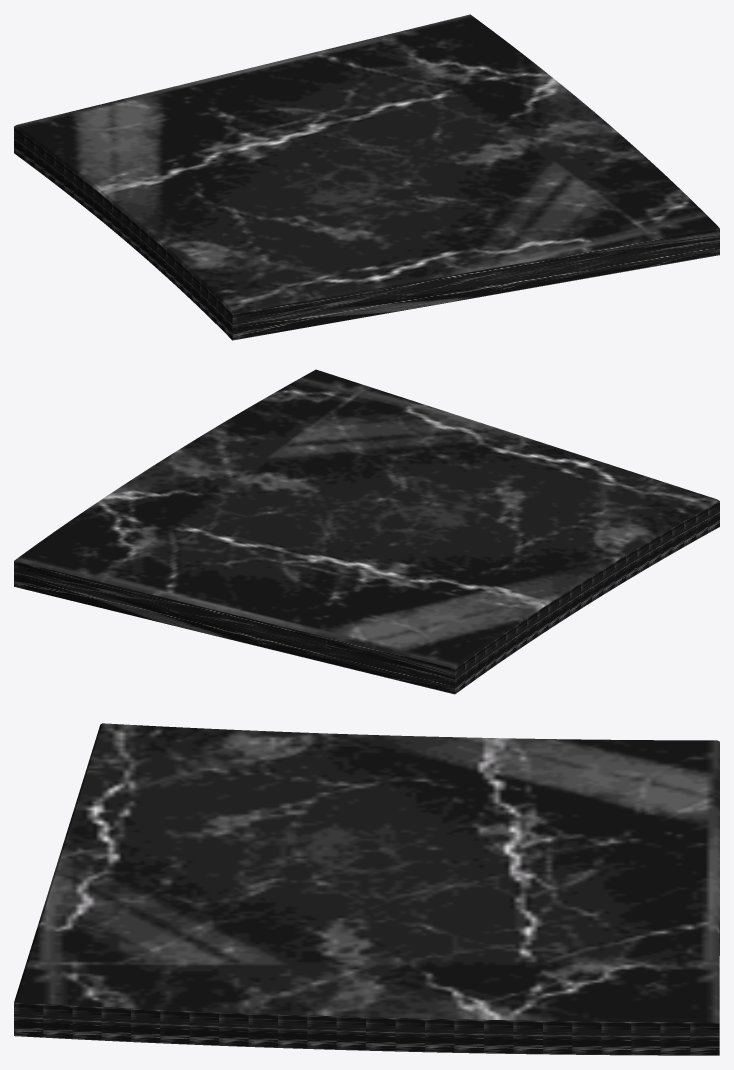
File: f02-black-marble-radial-wedge.glb
3 views of the same model, one above another, from view 1: azimuth 30°, elevation 25°; view 2: azimuth 150°, elevation 25°; view 3: azimuth 270°, elevation 25° (orthographic). The views are drawn at different scales.
Visible parts, largest first — view 1: f02-black-marble-radial-wedge; view 2: f02-black-marble-radial-wedge; view 3: f02-black-marble-radial-wedge.
Boxes of the visible parts, x1=… form: f02-black-marble-radial-wedge: x1=14, y1=14, x2=719, y2=340; f02-black-marble-radial-wedge: x1=14, y1=369, x2=719, y2=694; f02-black-marble-radial-wedge: x1=14, y1=723, x2=719, y2=1055.
Size of the model in its own units: 1.06 by 0.06 by 1.06.
1 material, 1 textured.
